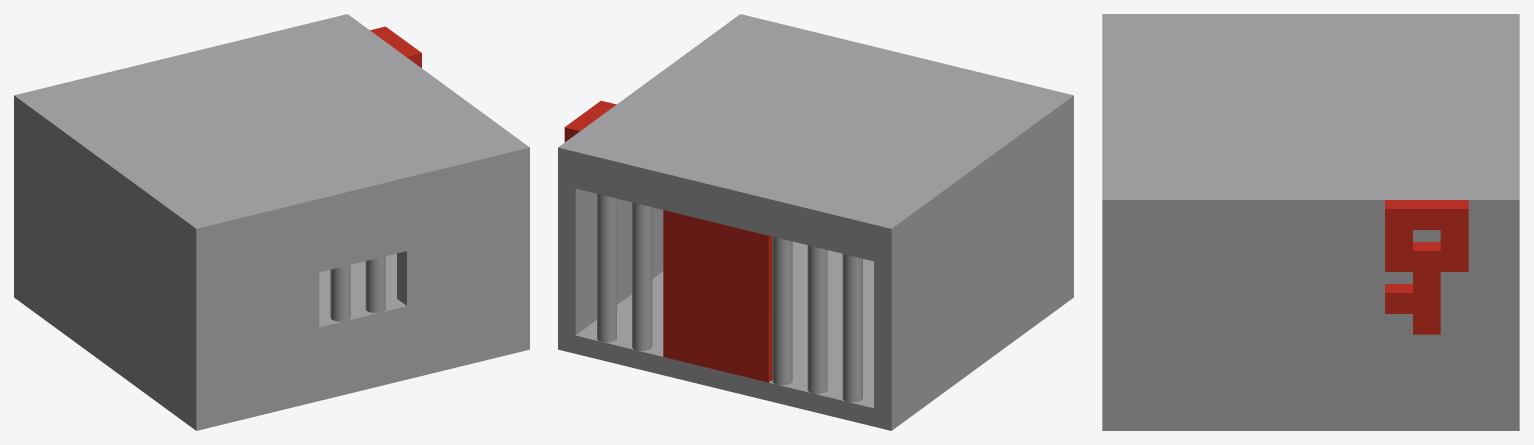
Rendered from celda.gltf.
3 renders of one model, left to right at view 1: azimuth 30°, elevation 25°; view 2: azimuth 150°, elevation 25°; view 3: azimuth 270°, elevation 25°, orthographic. The views are drawn at different scales.
Visible parts, largest first — view 1: Part (×9); view 2: Part (×12), RedDoor; view 3: Part (×5), Smooth Block Model (×5).
Boxes of the visible parts, x1,y1,x2,y2 form: Part (×9): [14, 14, 529, 430]; Part (×12): [558, 14, 1073, 430]; RedDoor: [663, 210, 772, 382]; Part (×5): [1102, 14, 1519, 430]; Smooth Block Model (×5): [1385, 200, 1468, 334].
Bounding box in the file's own units: 19.9 × 11 × 18.
